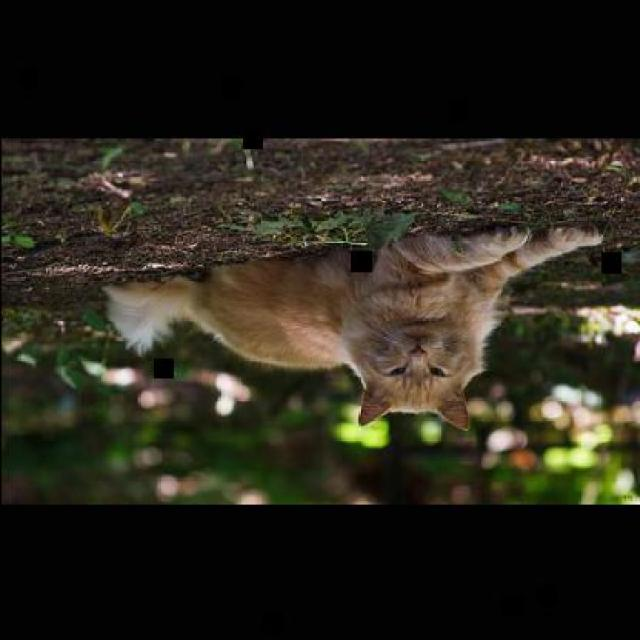unauthorized: (100, 223, 603, 431)
